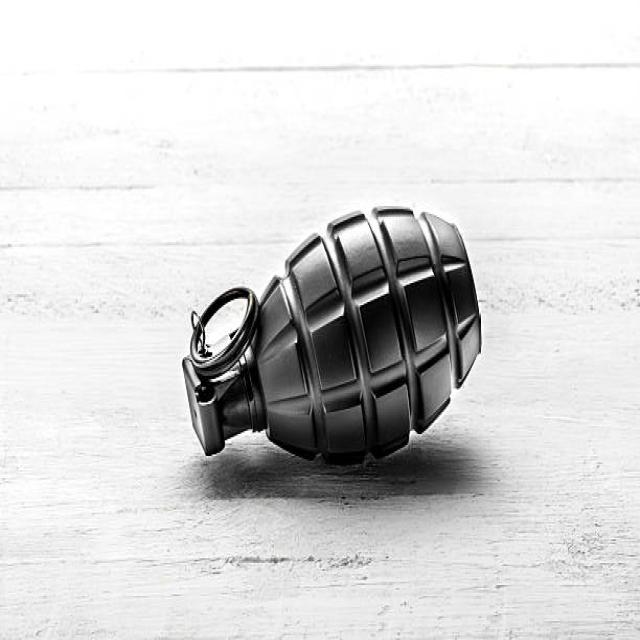grenade: (179, 208, 487, 476)
